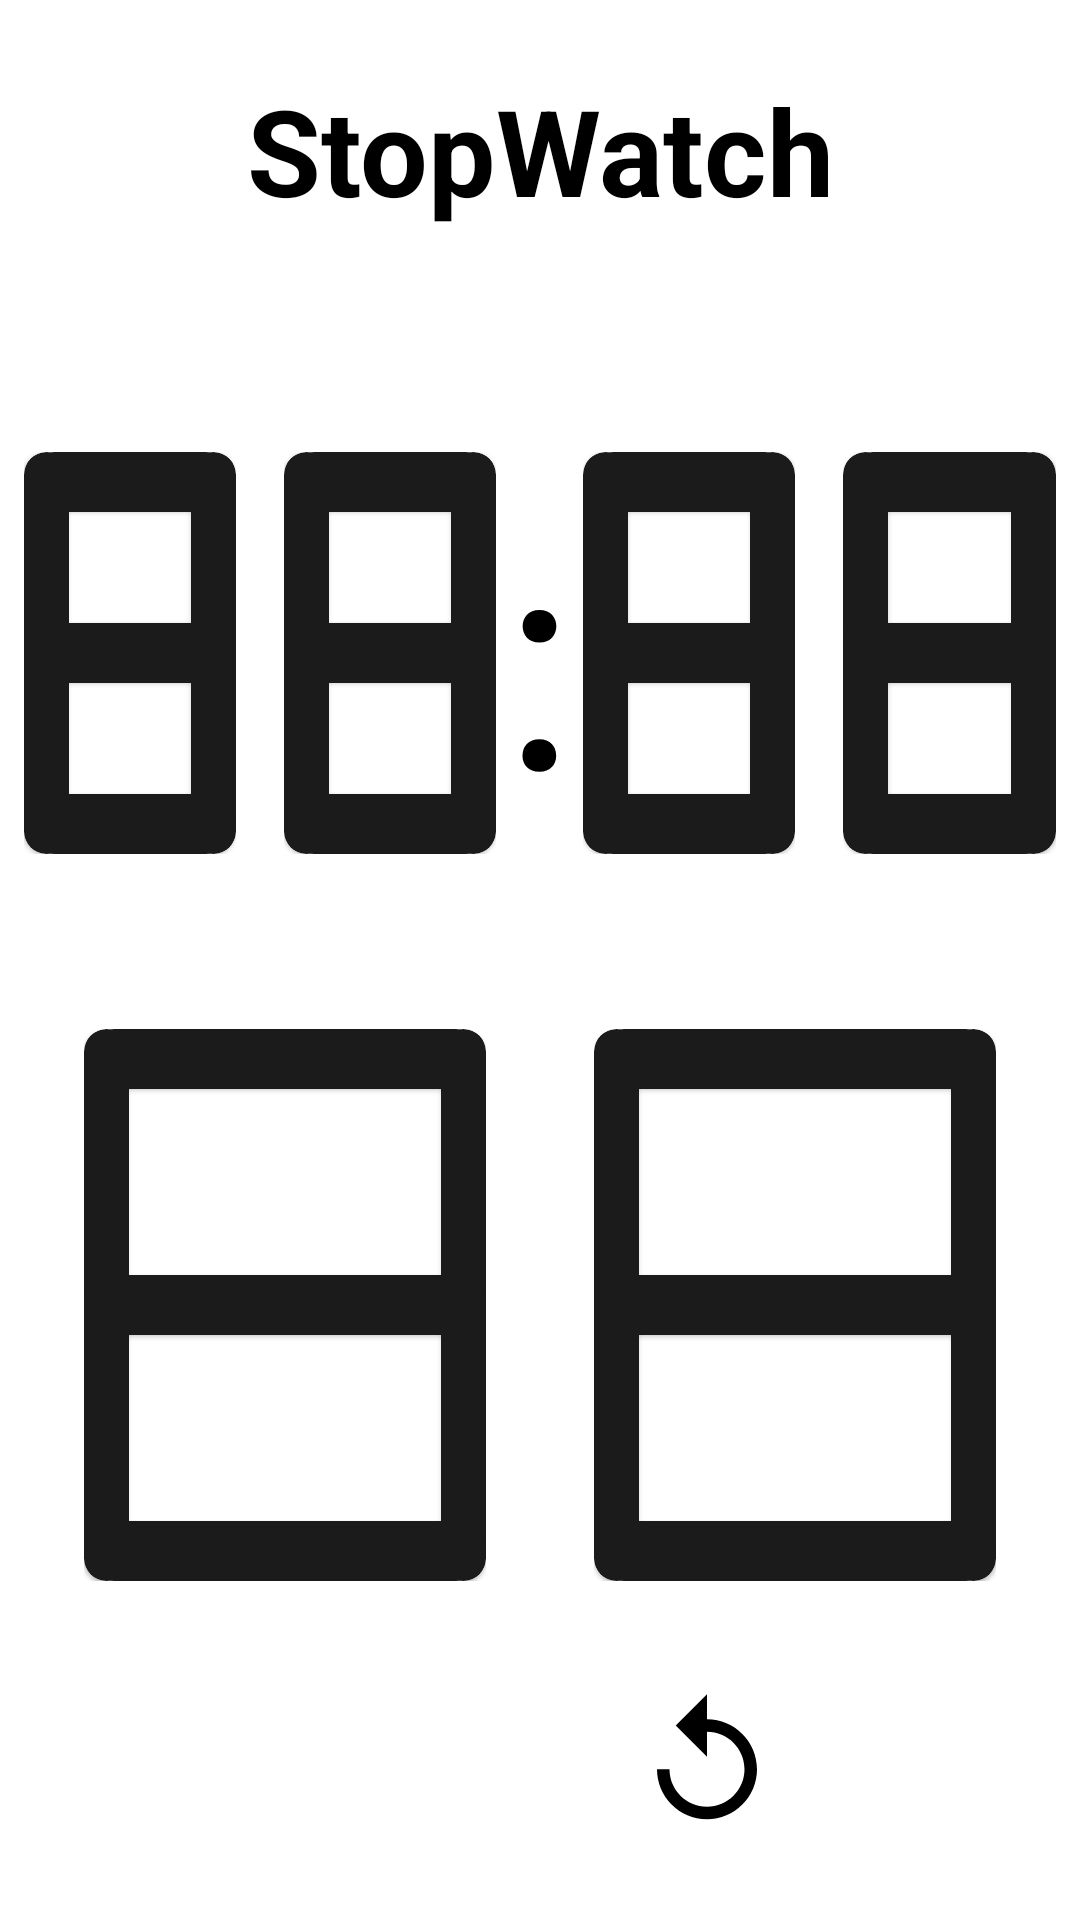

Screen size 1080×1920. Icon name, then its box in pixels as (x1, y1, x2, y2):
replay: (657, 1694, 757, 1820)
